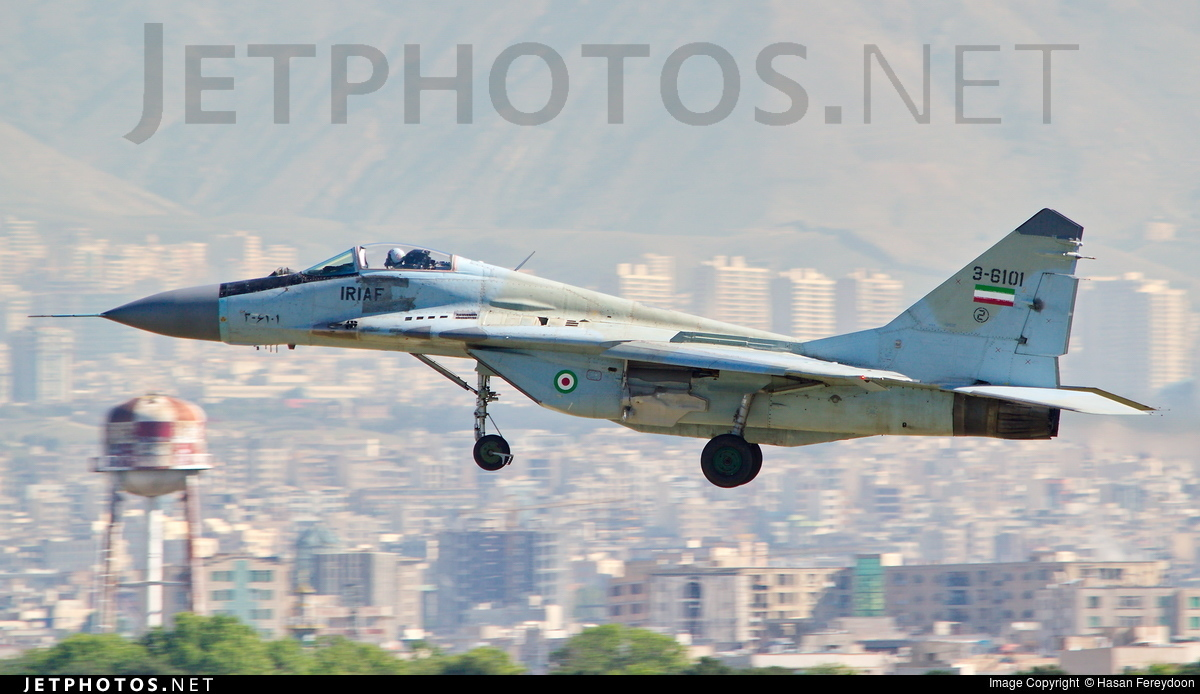Iran: (975, 279, 1021, 310), (552, 368, 581, 395)
Mig-29: (79, 177, 1149, 538)
